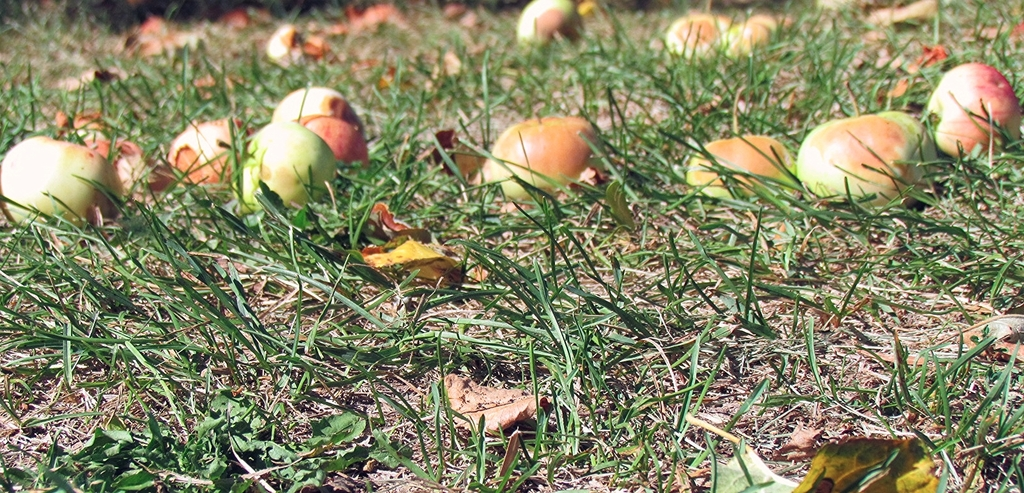Apple: (793, 83, 933, 208), (7, 124, 122, 229), (491, 112, 598, 204), (926, 62, 1023, 156), (241, 123, 343, 212), (686, 136, 795, 208), (167, 120, 254, 184), (272, 90, 367, 138), (296, 115, 367, 170)
